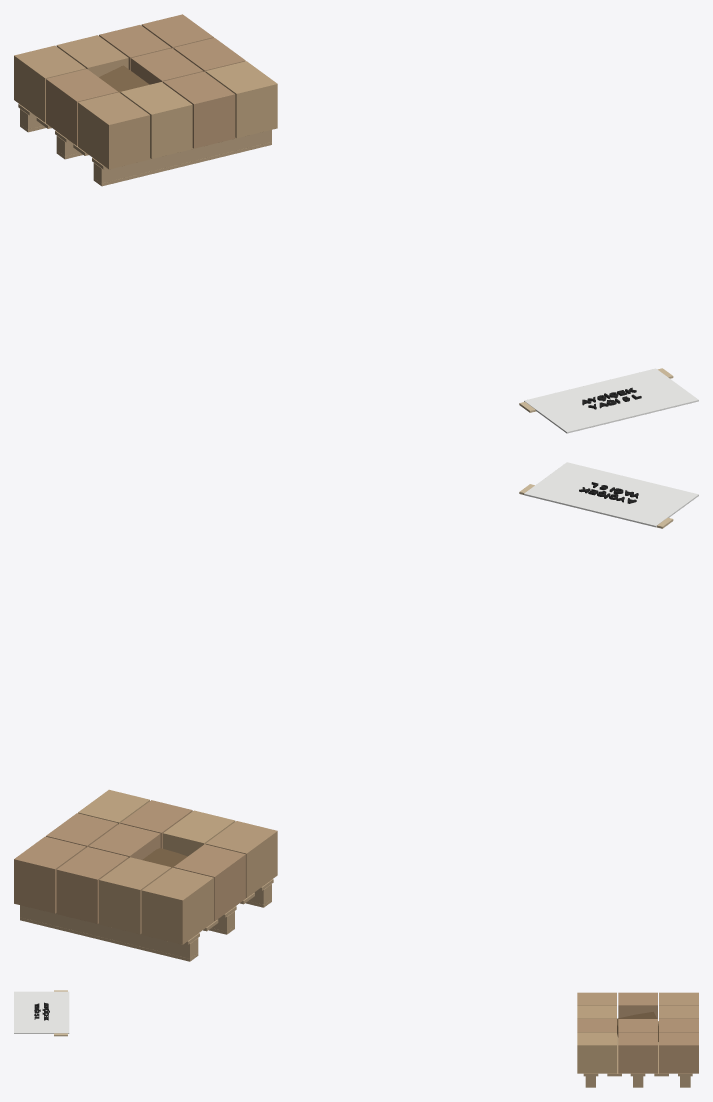
Rendered from delivery-hasarli.glb.
The picture shows the model from 3 angles, top to bottom: view 1: azimuth 30°, elevation 25°; view 2: azimuth 150°, elevation 25°; view 3: azimuth 270°, elevation 25°; orthographic projection. The views are drawn at different scales.
Parts seen in each view (by area): view 1: delivery; view 2: delivery; view 3: delivery.
Boxes of the visible parts, x1=… form: delivery: x1=14, y1=14, x2=698, y2=433; delivery: x1=14, y1=462, x2=698, y2=961; delivery: x1=14, y1=990, x2=698, y2=1087.
Bounding box in the file's own units: 1.2 × 0.5273 × 6.53.
